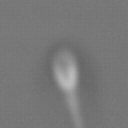normal: (54, 91, 94, 128)
